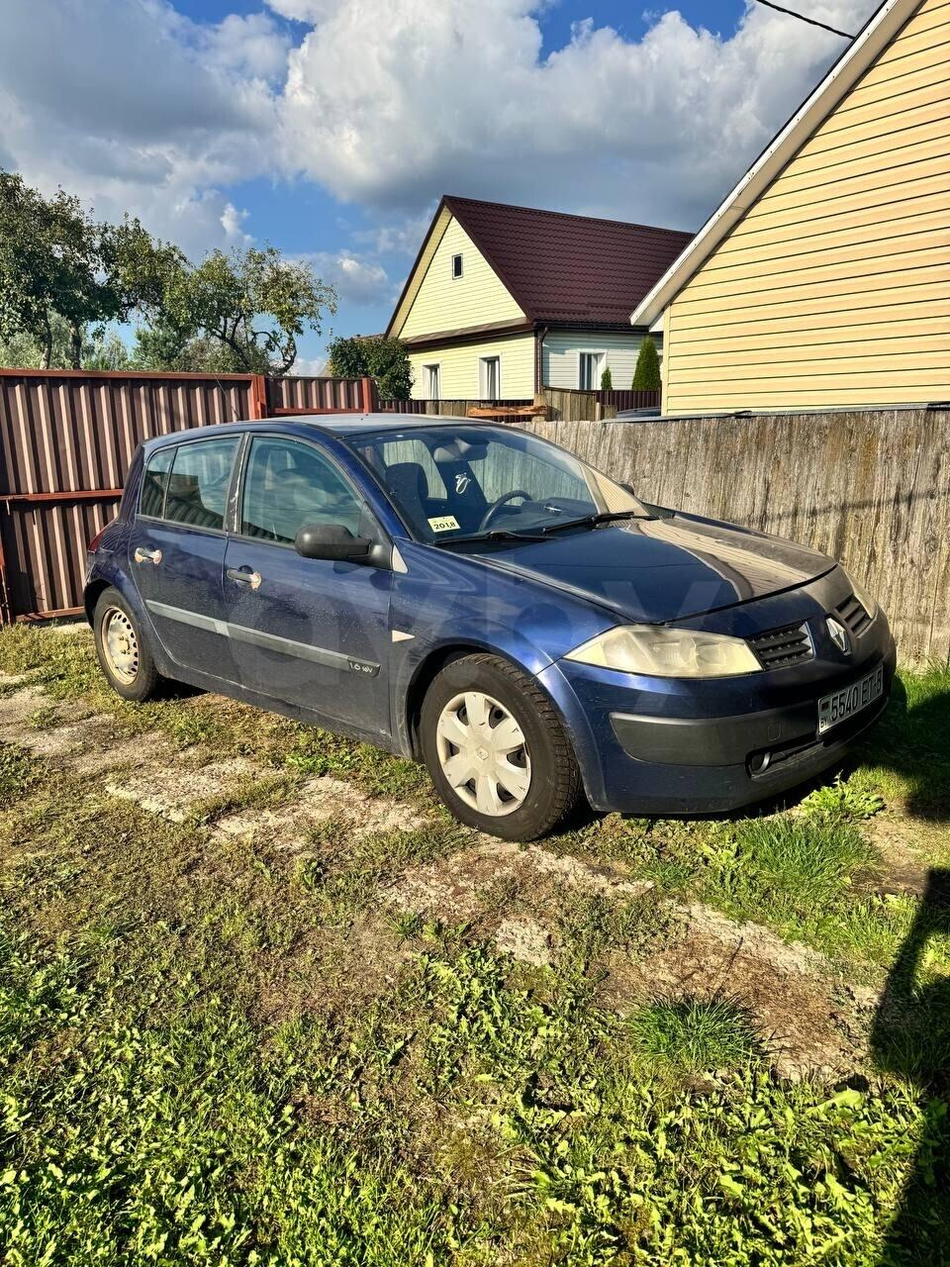Megane_2002-2006: (78, 404, 896, 860)
